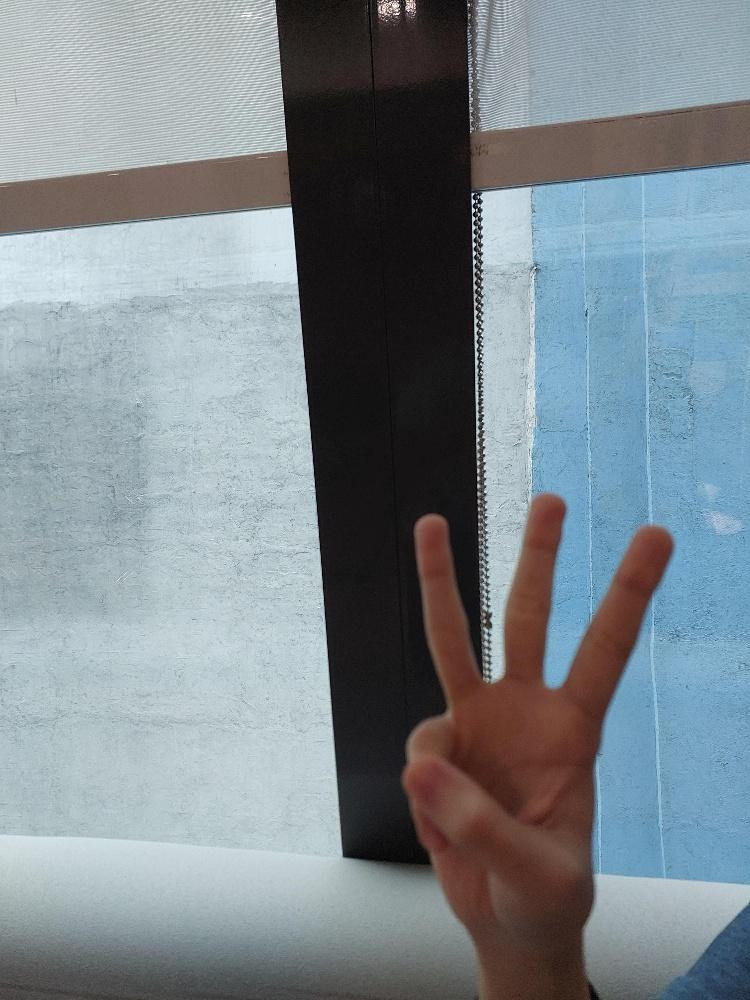w: (400, 491, 672, 924)
